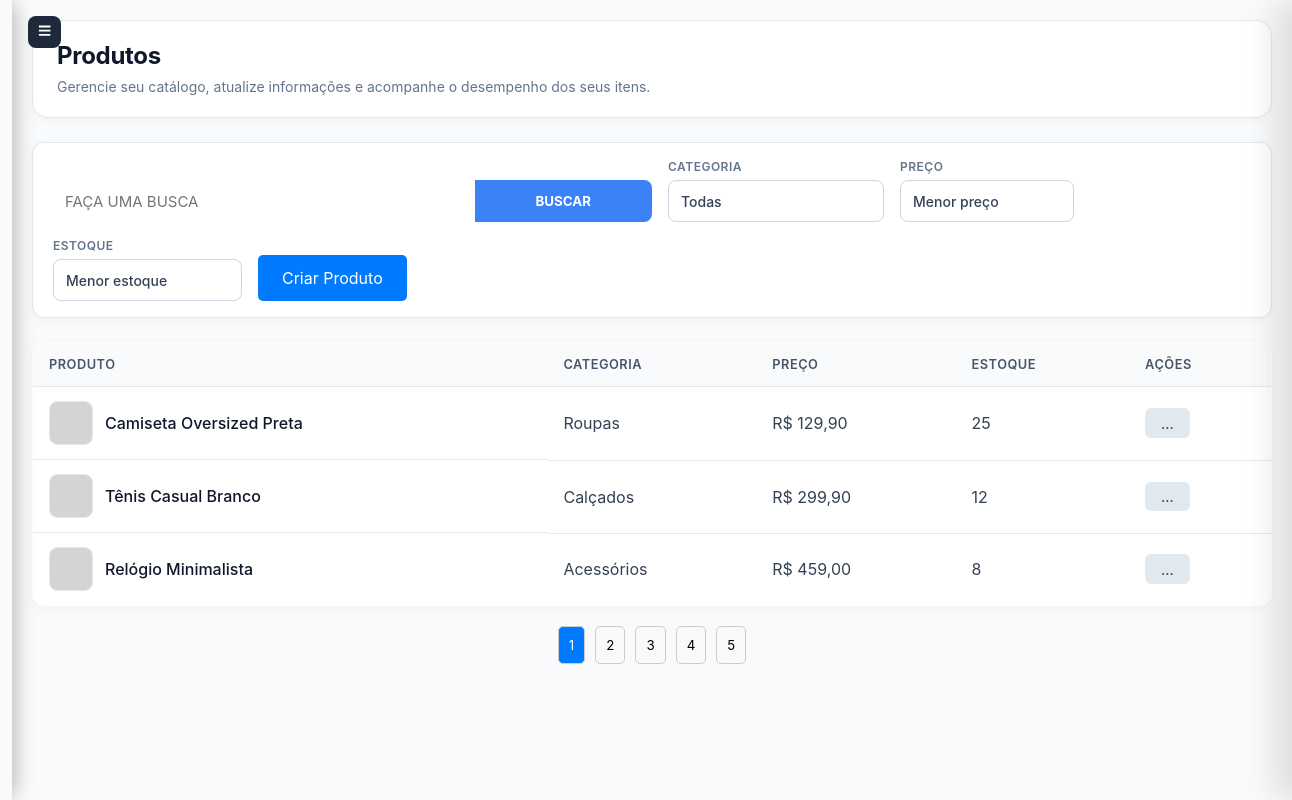
store/product filters › should update the URL params when selecting a product category
Select "Roupas" in the dropdown named "selecione uma categoria": (776, 201) [668, 180, 884, 222]
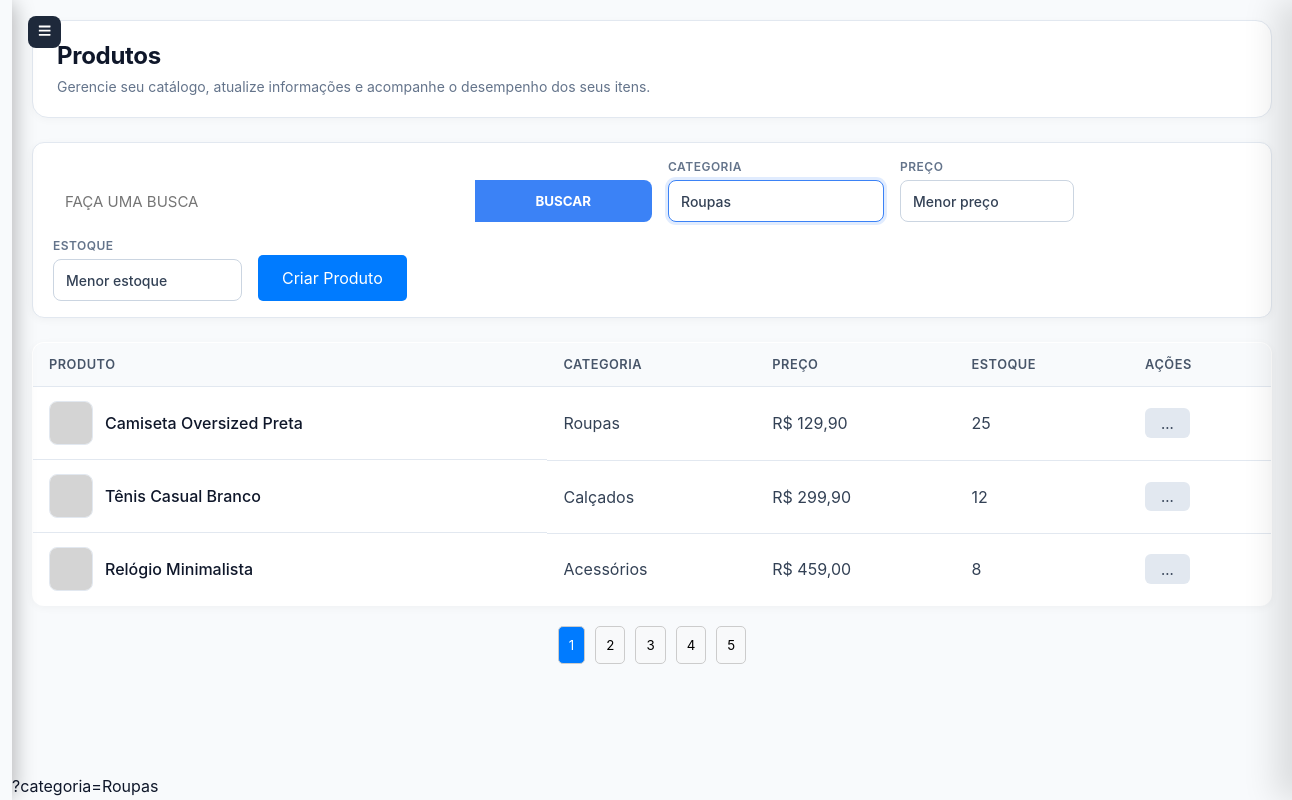
Now the text with test id "location" reads "?categoria=Roupas", box [12, 776, 158, 796]
